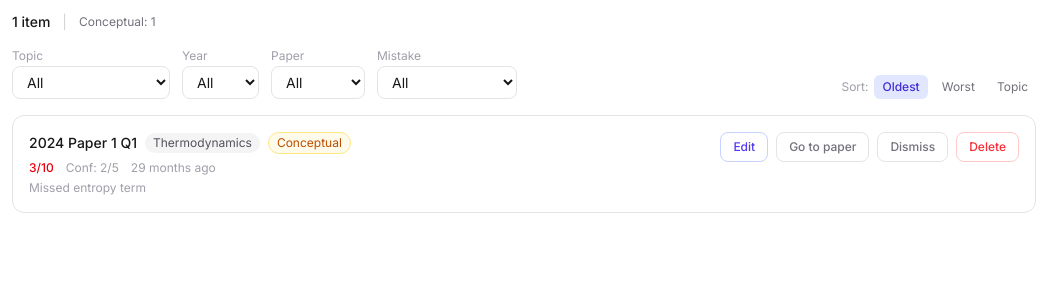
Test: ReviewClient › dismiss shows error and restores item on failure
Click the button "Dismiss".
click(913, 147)  # box [877,132,948,162]
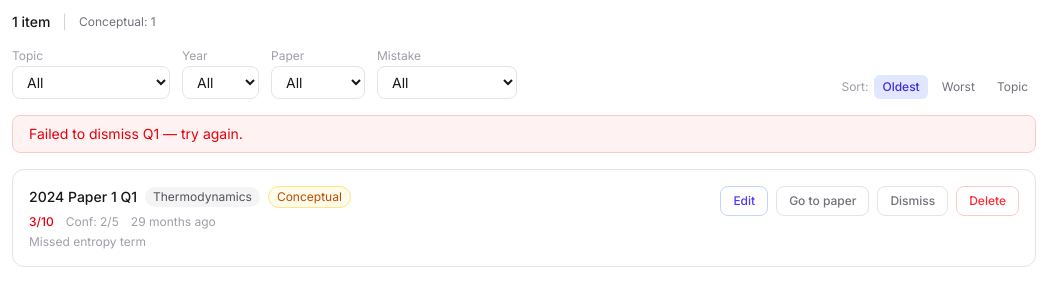
Expected: the button "Dismiss" is shown, [877,186,948,216]
Expected: the text "Failed to dismiss Q1 — try again." is shown, [12,115,1036,153]
